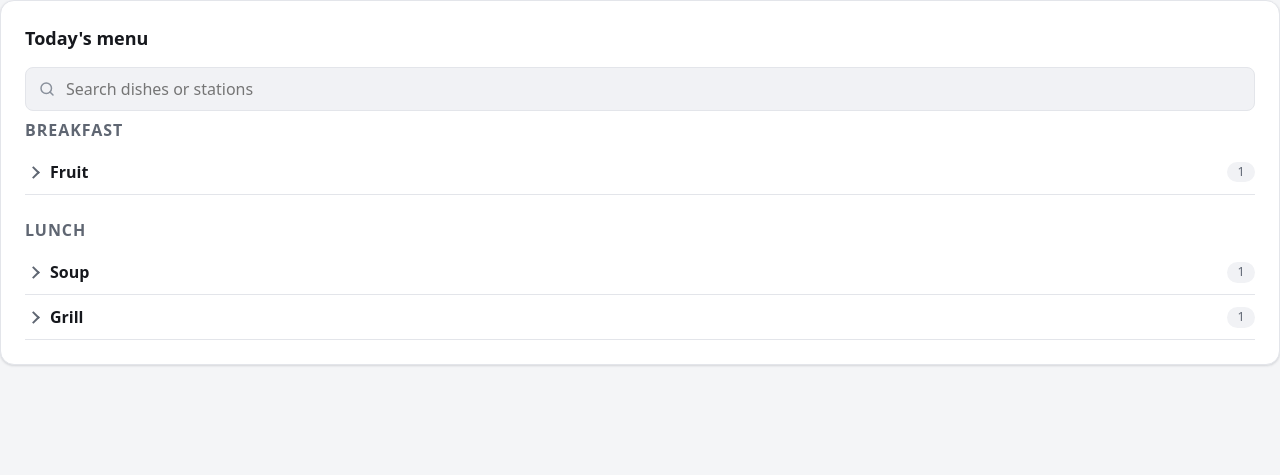
it: MenuView › puts each station in a closed, collapsible section with its dish count
Expected: the text "Fruit" reads "Fruit 1", [25,150,1255,195]
Expected: the text "Banana" is not shown
Click the text "Fruit" at x=69, y=172, box [50,161,88,183]
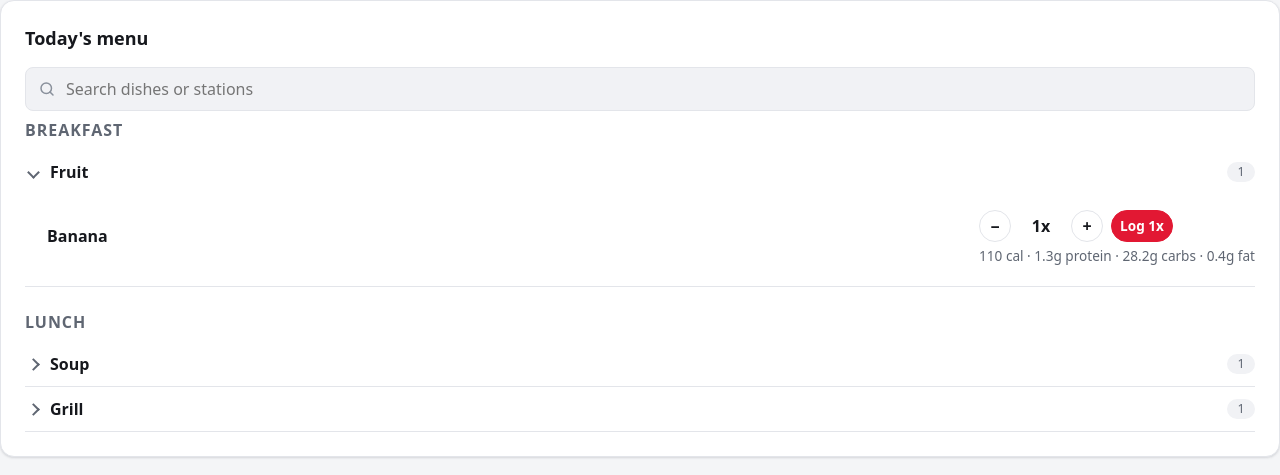
Result: the text "Banana" is shown at [47,224,108,248]
